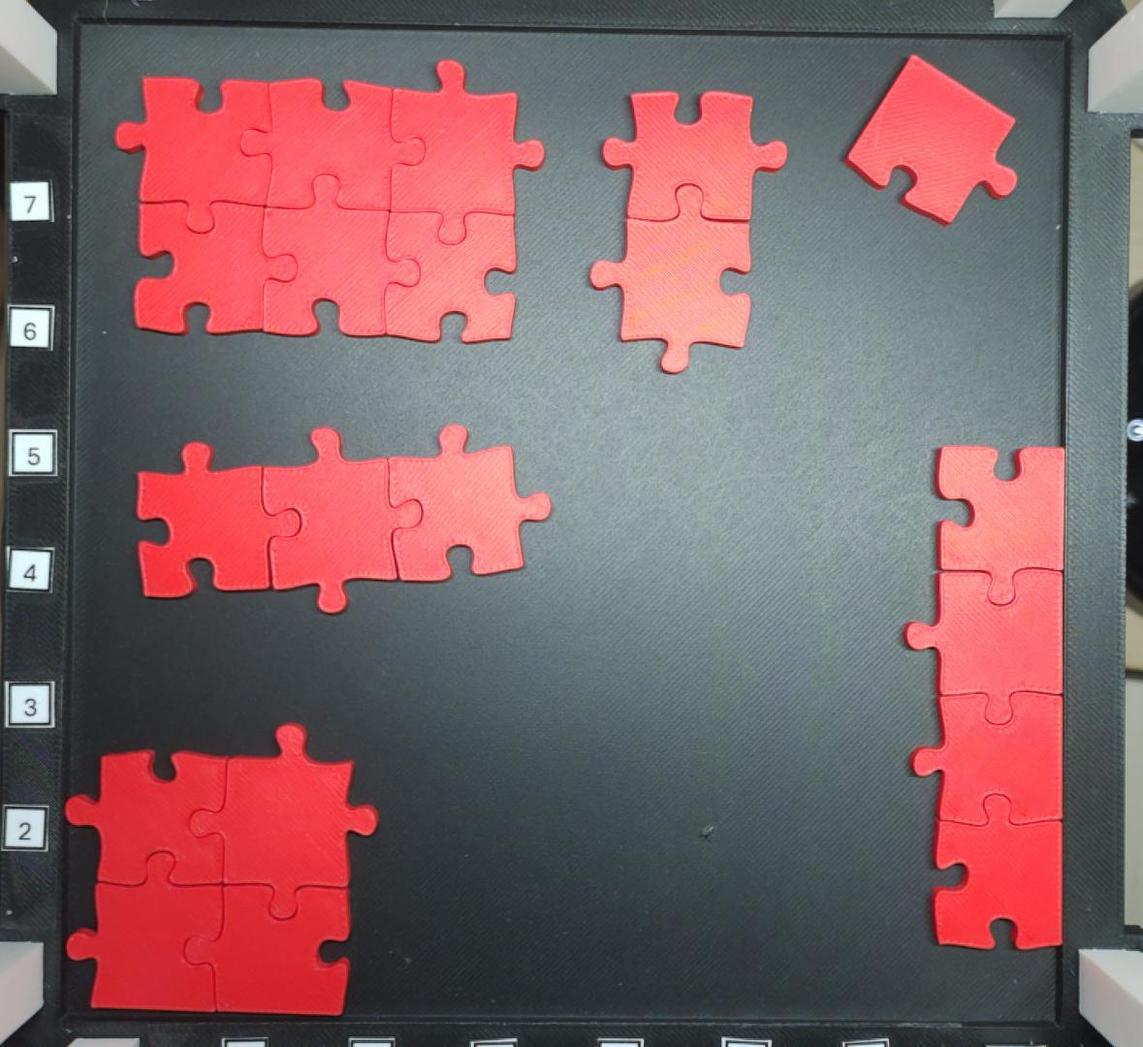p_1: (841, 52, 1022, 228)
p_2: (589, 91, 787, 377)
p_3: (137, 427, 554, 617)
p_4: (57, 721, 379, 1018), (905, 443, 1067, 949)
p_m: (117, 59, 545, 343)
